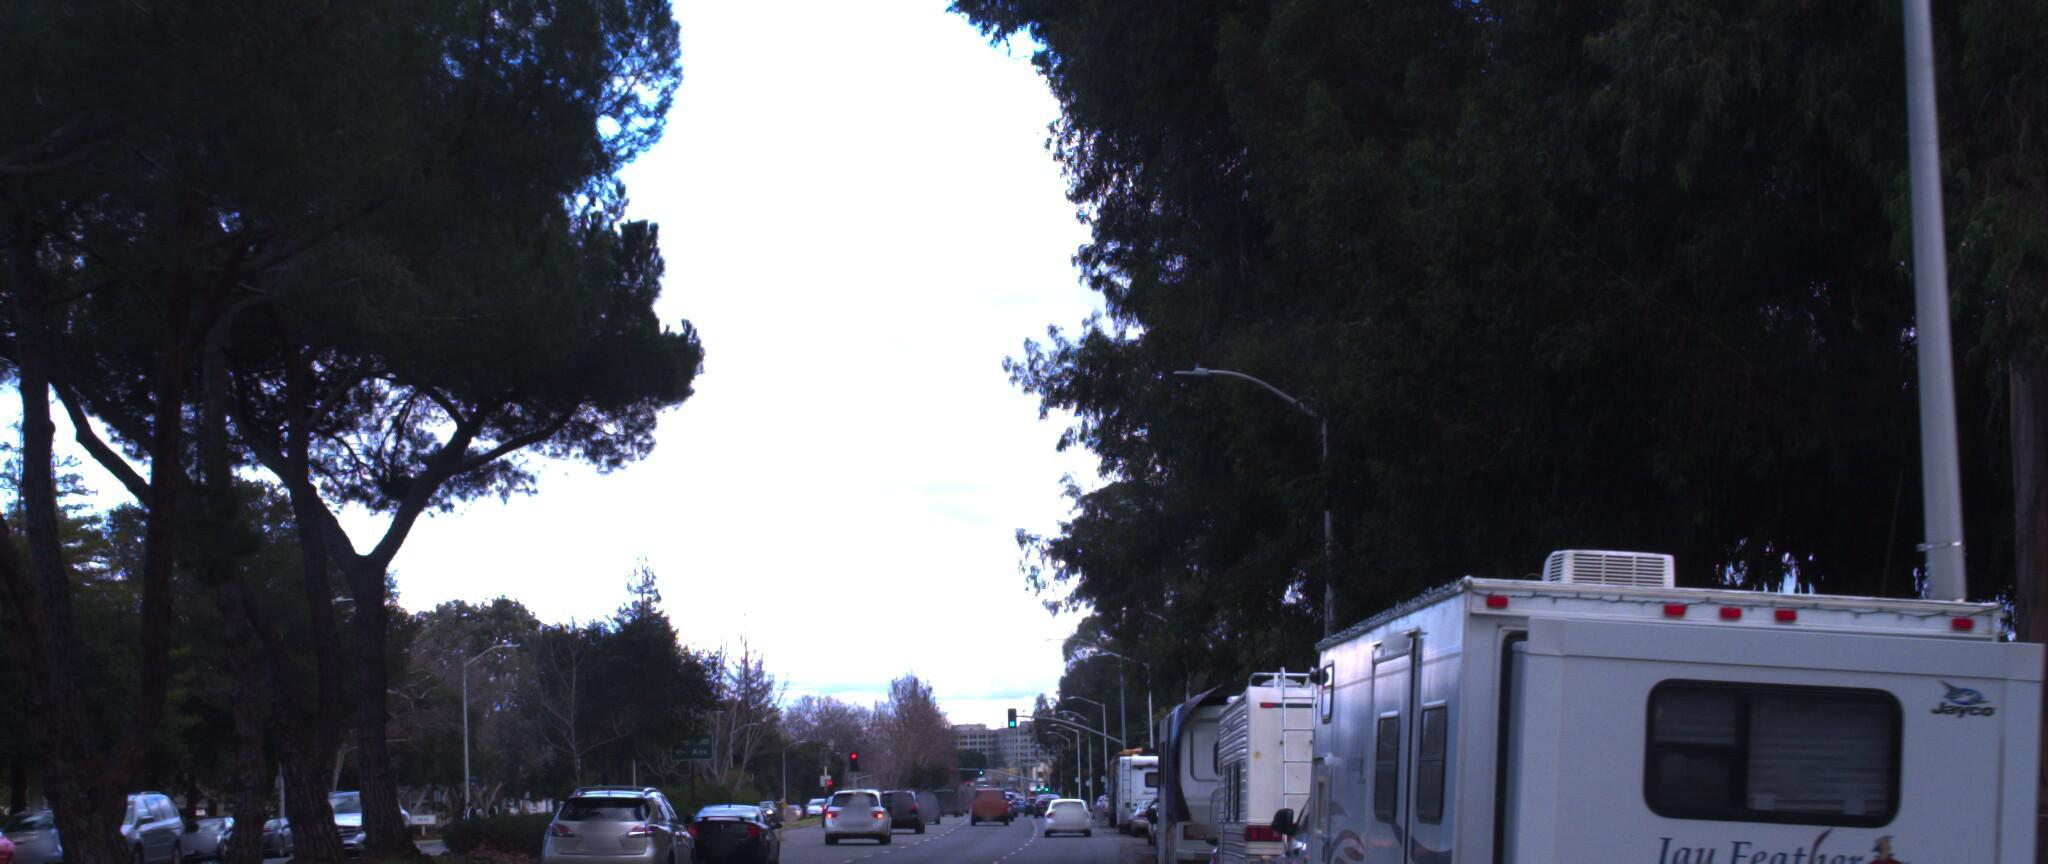car: (1258, 730, 1601, 864), (33, 769, 199, 864), (543, 769, 707, 864), (671, 777, 778, 861), (0, 795, 35, 864)
other_vehicle: (1275, 439, 2048, 864), (1196, 632, 1529, 864), (1149, 655, 1344, 864)
